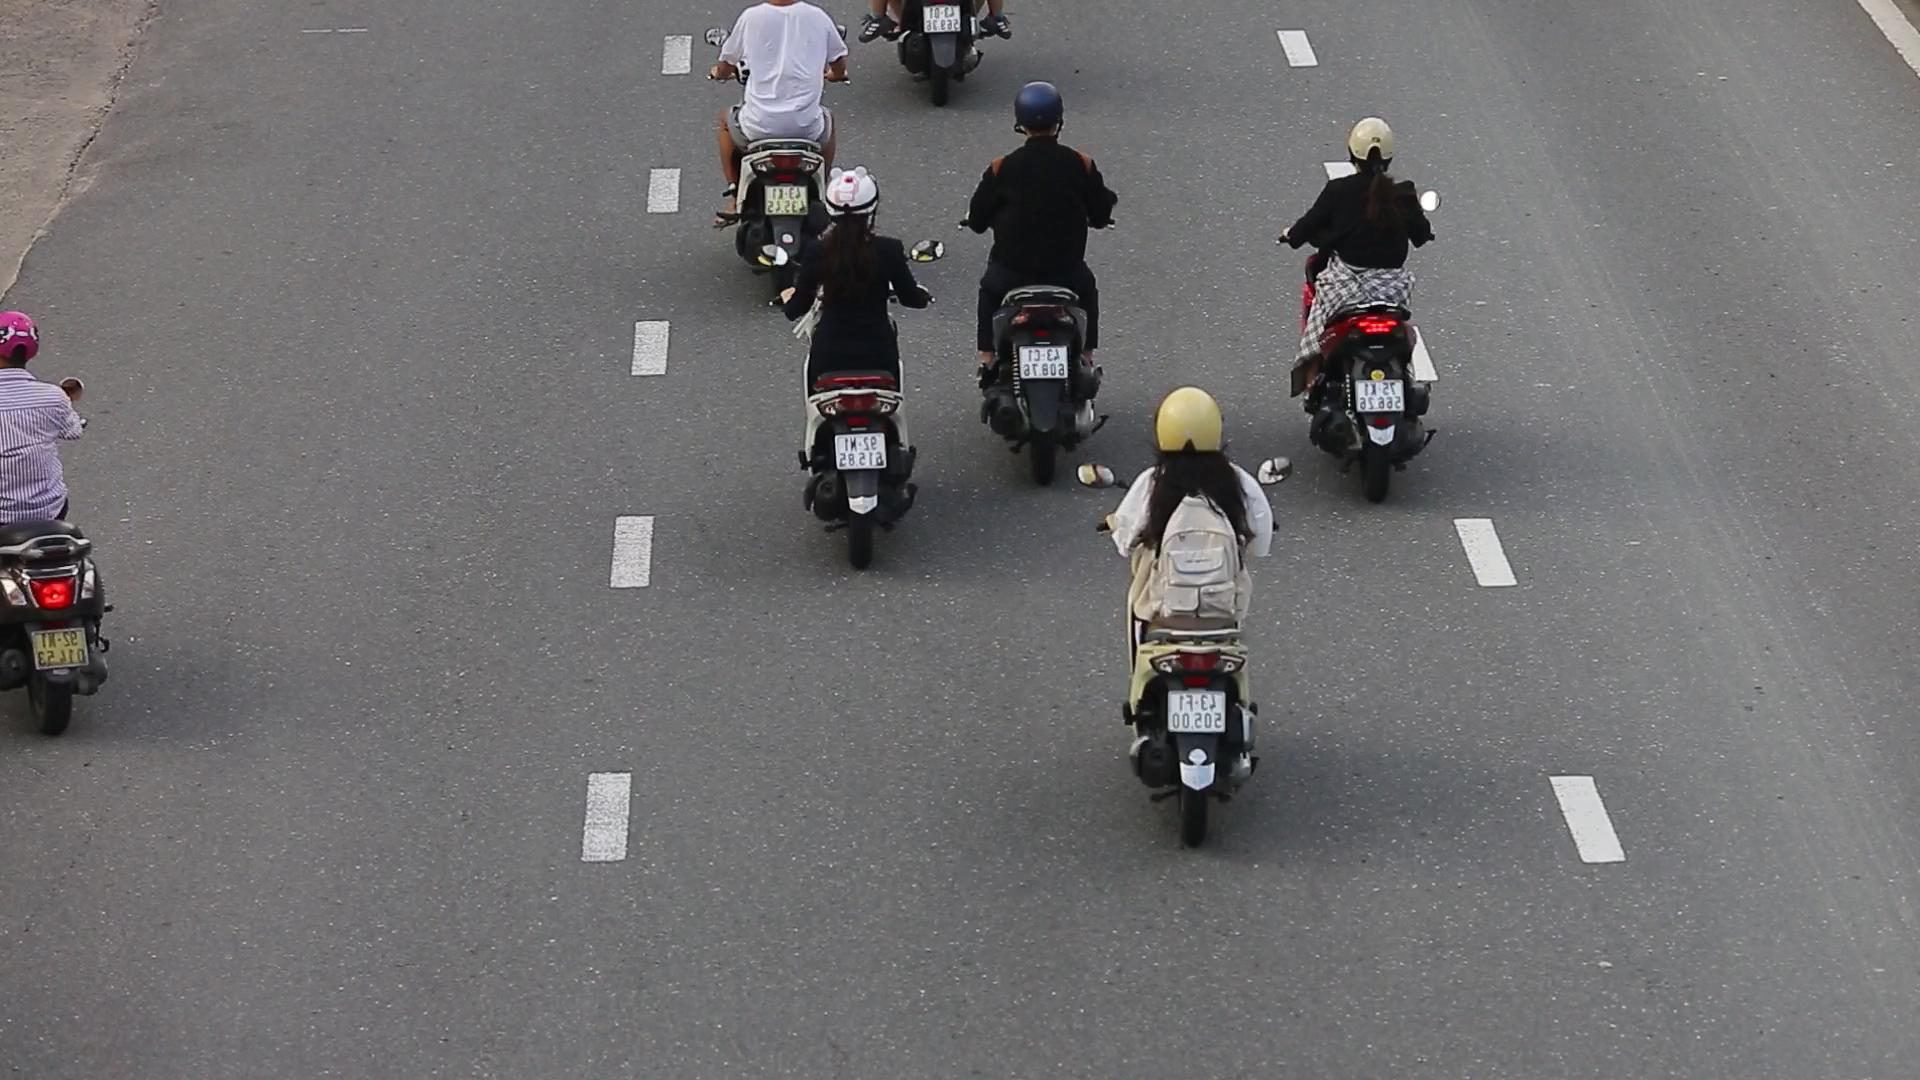motobike: (1080, 381, 1298, 855), (771, 164, 942, 574), (1266, 111, 1439, 509), (957, 78, 1124, 485)
